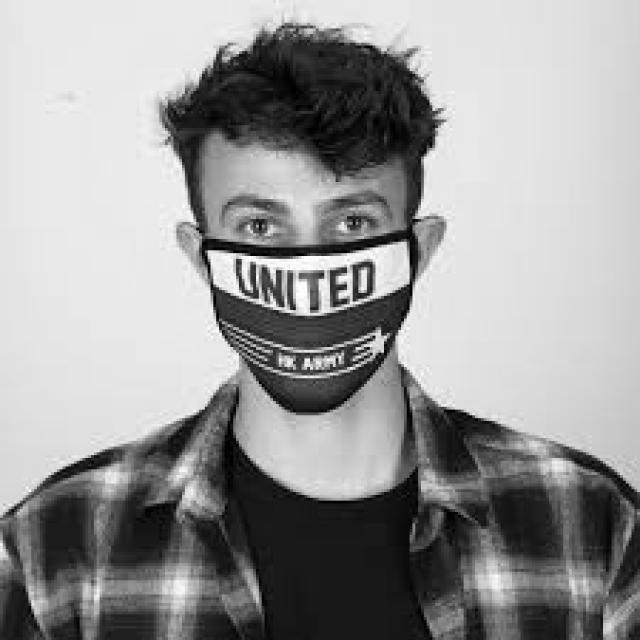fake: (208, 219, 441, 420)
real: (194, 128, 425, 415)
